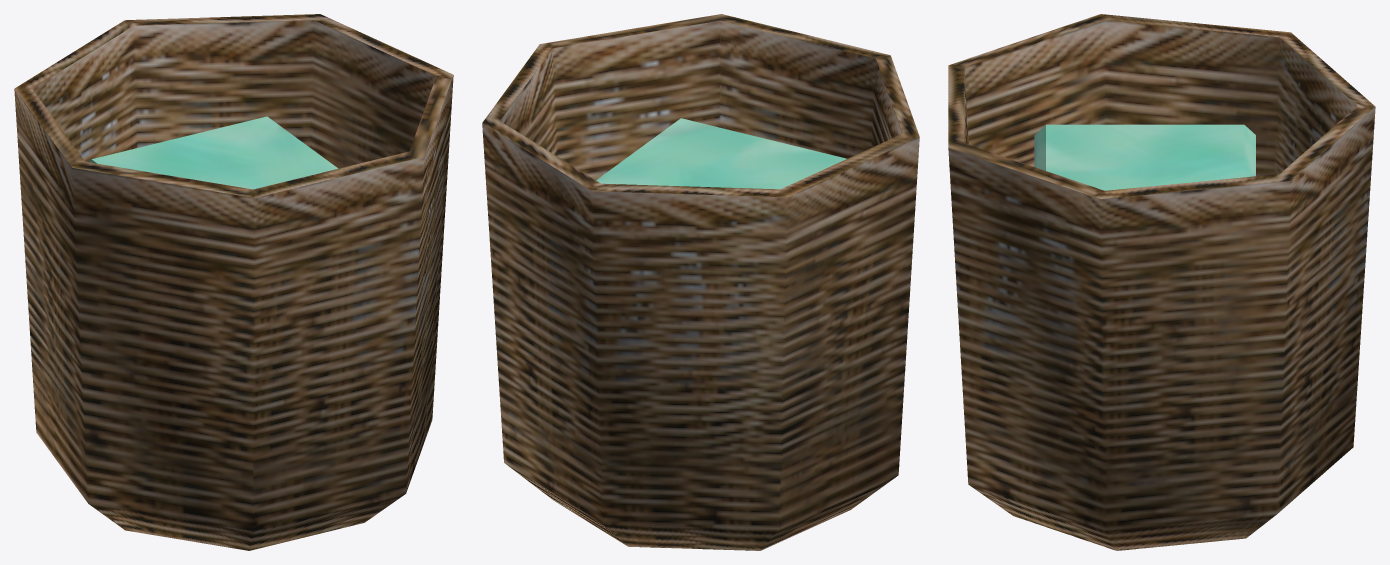
The model's file is Laundry Basket.fbx.
The picture shows the model from 3 angles, left to right: view 1: azimuth 30°, elevation 25°; view 2: azimuth 150°, elevation 25°; view 3: azimuth 270°, elevation 25°; orthographic projection.
Visible parts, largest first — view 1: basket_002, folded_clothes_002; view 2: basket_002, folded_clothes_002; view 3: basket_002, folded_clothes_002.
Boxes of the visible parts, box(x1,y1,x2,y2) form: basket_002: box(14, 14, 453, 550); folded_clothes_002: box(89, 116, 337, 189); basket_002: box(482, 14, 919, 550); folded_clothes_002: box(596, 118, 846, 189); basket_002: box(948, 14, 1375, 550); folded_clothes_002: box(1034, 124, 1255, 190).
Size of the model in its own units: 62.12 by 59.8 by 60.56.
2 materials, 2 textured.
